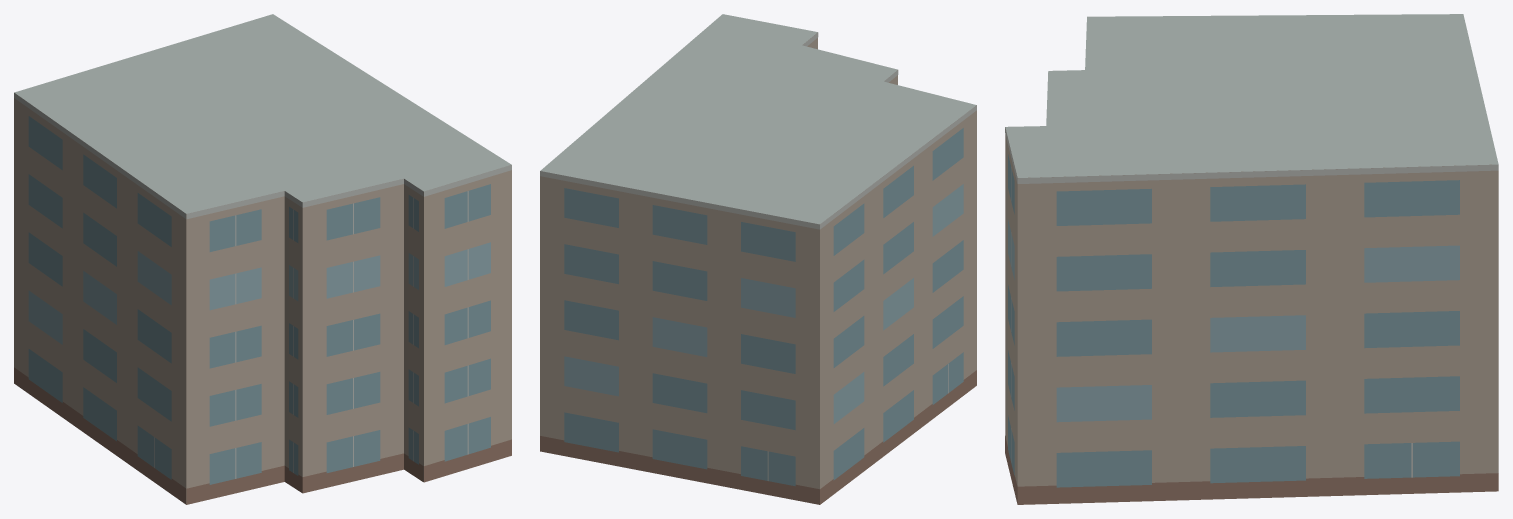
File: survey-upis-32911337.glb
3 views of the same model, side by side, from view 1: azimuth 30°, elevation 25°; view 2: azimuth 150°, elevation 25°; view 3: azimuth 270°, elevation 25° (orthographic). The views are drawn at different scales.
Parts seen in each view (by area): view 1: survey-upis-32911337.tmp; view 2: survey-upis-32911337.tmp; view 3: survey-upis-32911337.tmp.
Boxes of the visible parts, bbox=[...] form: survey-upis-32911337.tmp: bbox=[14, 14, 511, 504]; survey-upis-32911337.tmp: bbox=[540, 14, 976, 504]; survey-upis-32911337.tmp: bbox=[1005, 14, 1498, 504].
Size of the model in its own units: 14.17 by 13.15 by 18.01.
